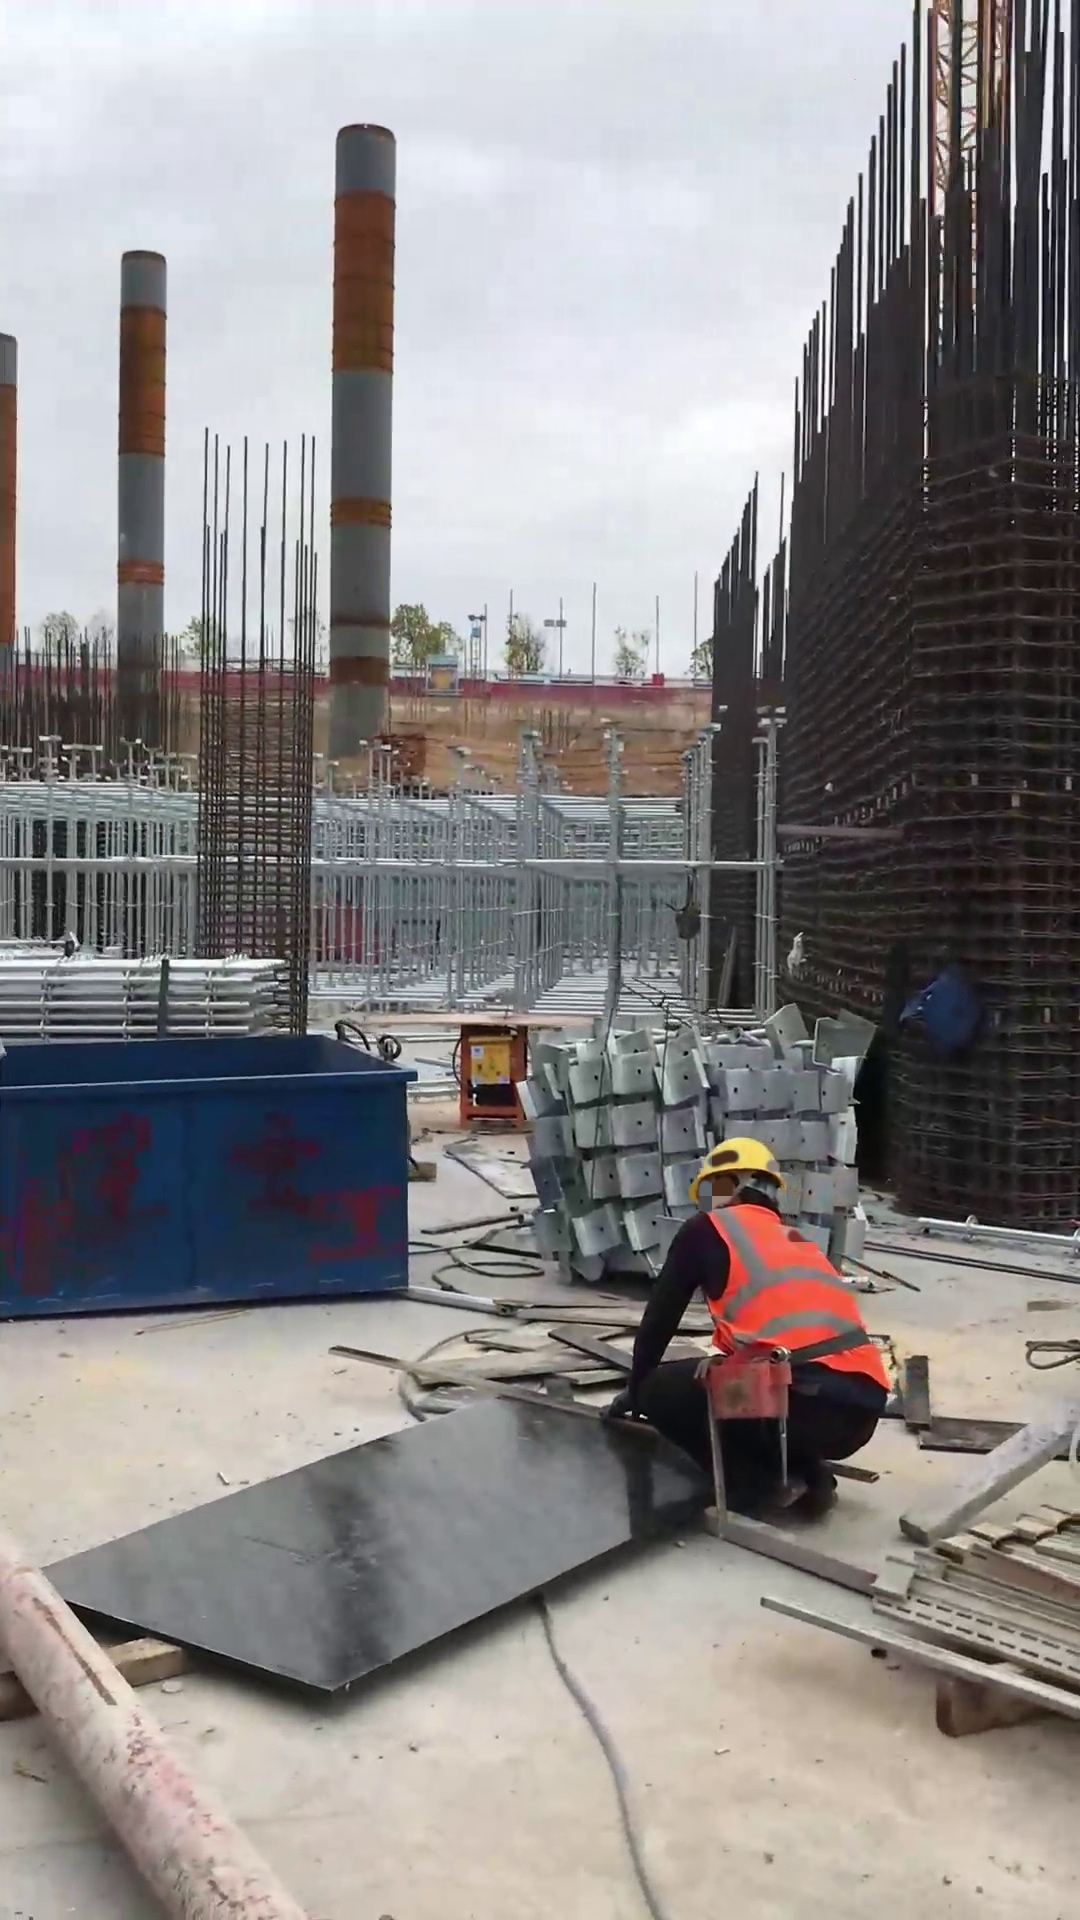cutter: (366, 1013, 596, 1132)
helmet: (681, 1133, 787, 1205)
hopper: (1, 1032, 422, 1322)
person: (600, 1134, 893, 1518)
scaffold: (1, 948, 288, 1049)
vest: (699, 1204, 893, 1391)
